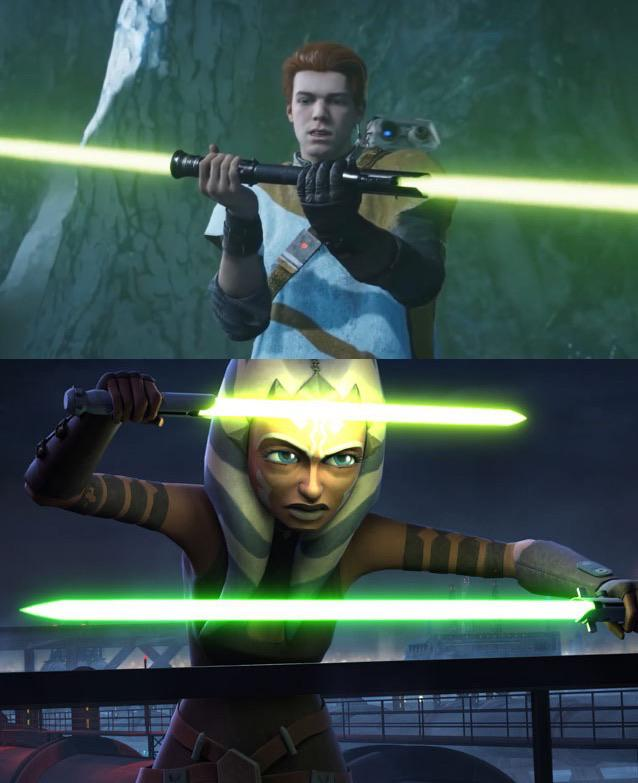lightsaber: (34, 395, 573, 466), (19, 586, 638, 640), (2, 150, 638, 201)
